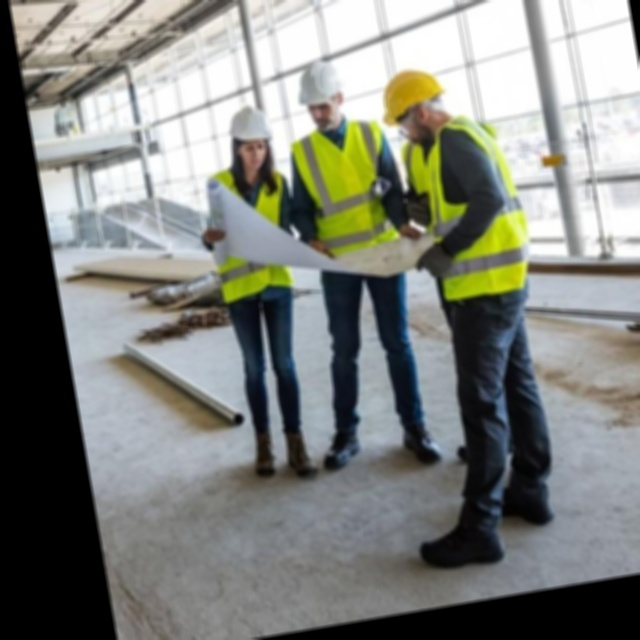Con_Casco: (291, 57, 353, 135), (223, 103, 278, 170)
Con_Chaleco: (413, 118, 535, 309), (291, 111, 404, 270), (199, 155, 304, 310)
